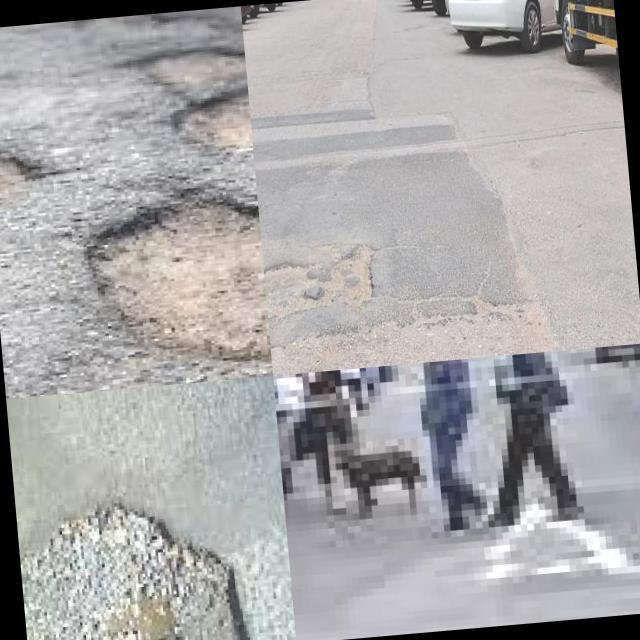Pothole: (20, 504, 248, 640), (106, 209, 271, 360), (156, 56, 253, 148), (325, 240, 378, 307), (263, 258, 315, 319)
